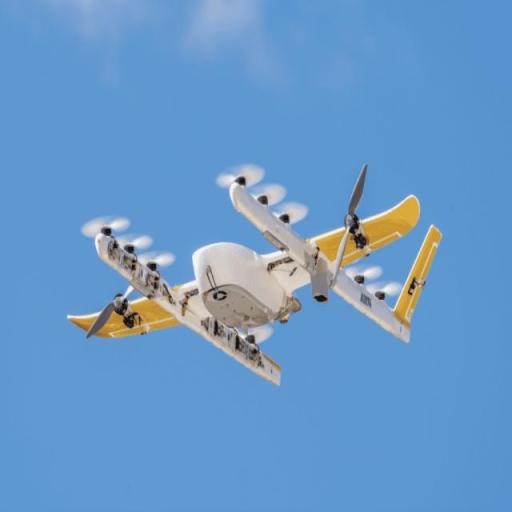uav: (66, 154, 464, 376)
